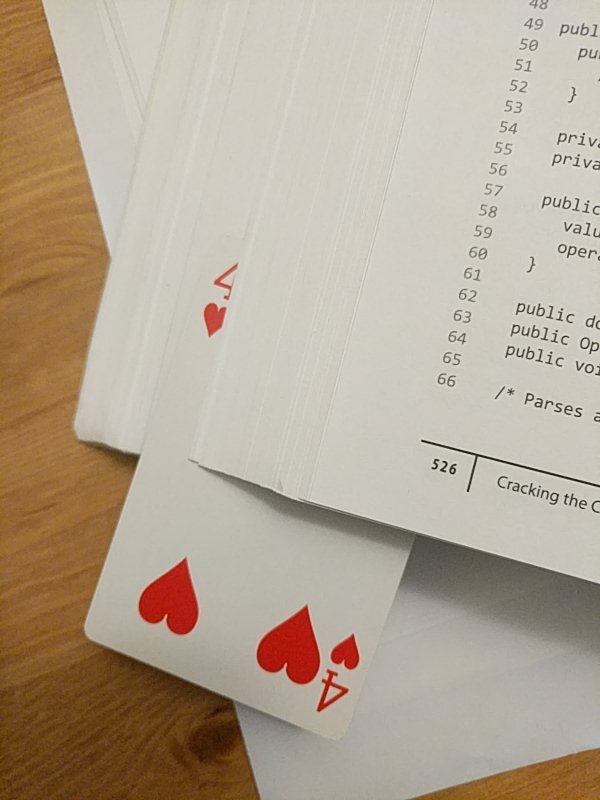Hearts: (89, 231, 416, 742)
